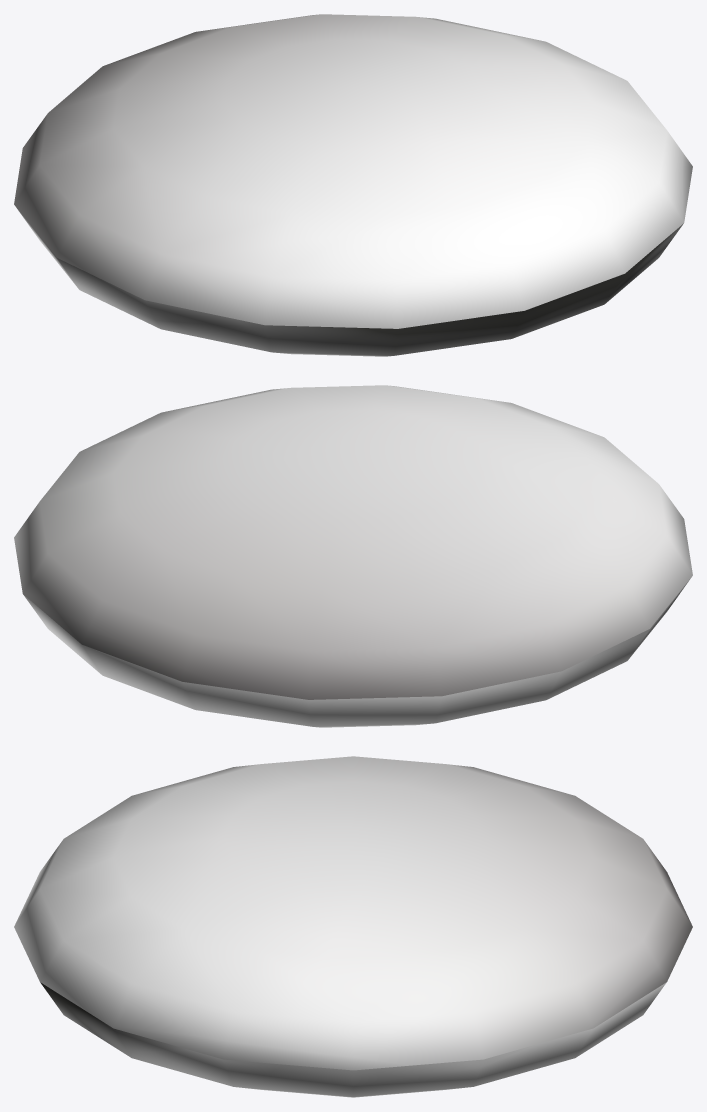
The picture shows the model from 3 angles, top to bottom: view 1: azimuth 30°, elevation 25°; view 2: azimuth 150°, elevation 25°; view 3: azimuth 270°, elevation 25°; orthographic projection.
Visible parts, largest first — view 1: go_stone_LOD2_Mesh.005; view 2: go_stone_LOD2_Mesh.005; view 3: go_stone_LOD2_Mesh.005.
Part boxes in pixels (box(x1,y1,x2,y2)): go_stone_LOD2_Mesh.005: box(14, 14, 692, 356); go_stone_LOD2_Mesh.005: box(14, 385, 692, 727); go_stone_LOD2_Mesh.005: box(14, 756, 692, 1097).
Bounding box in the file's own units: 0.022 × 0.007 × 0.022.
Materials: 1 (1 with a texture image).
